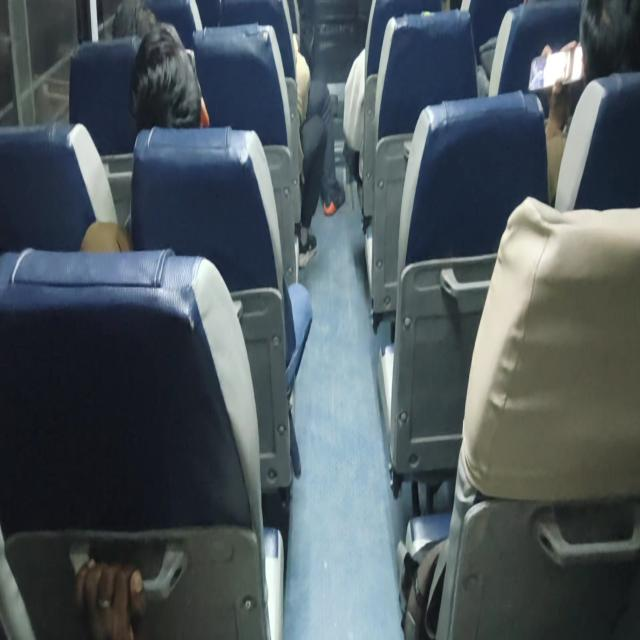person: (140, 38, 212, 127), (583, 0, 640, 77), (108, 0, 173, 39)
